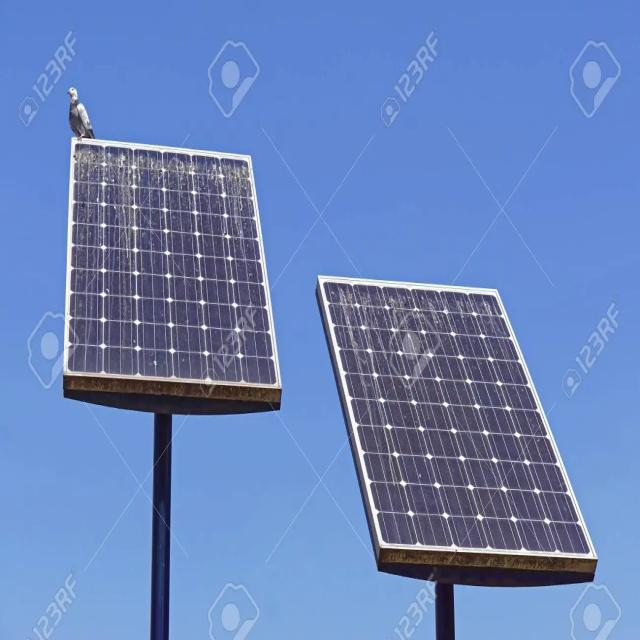dust-solar-panel: (321, 285, 595, 557), (68, 142, 282, 385)
